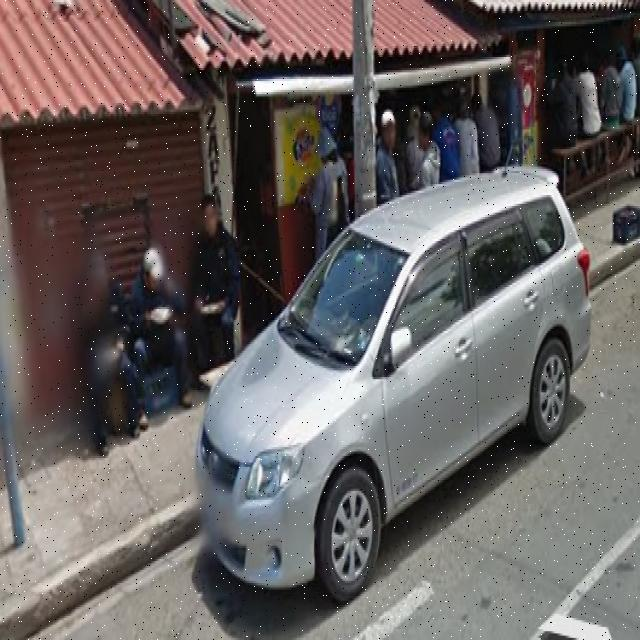cars: (190, 189, 590, 592)
